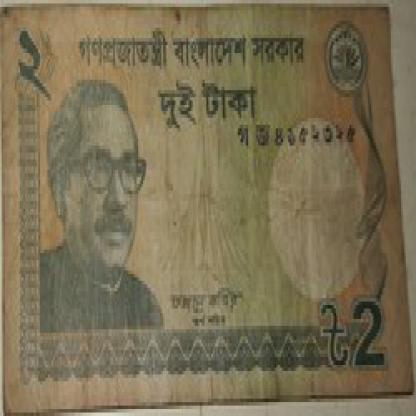two taka: (8, 24, 70, 101), (348, 288, 391, 381)
